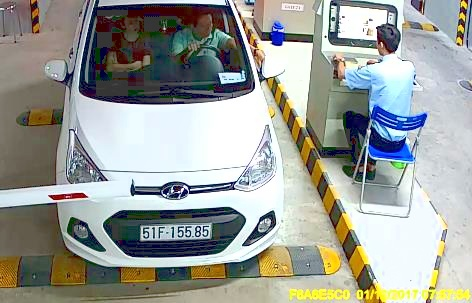plate: (138, 219, 211, 240)
